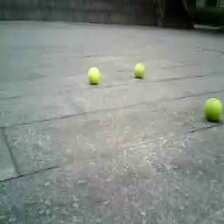tennis: (204, 97, 223, 118), (86, 66, 101, 83), (133, 63, 144, 77)
